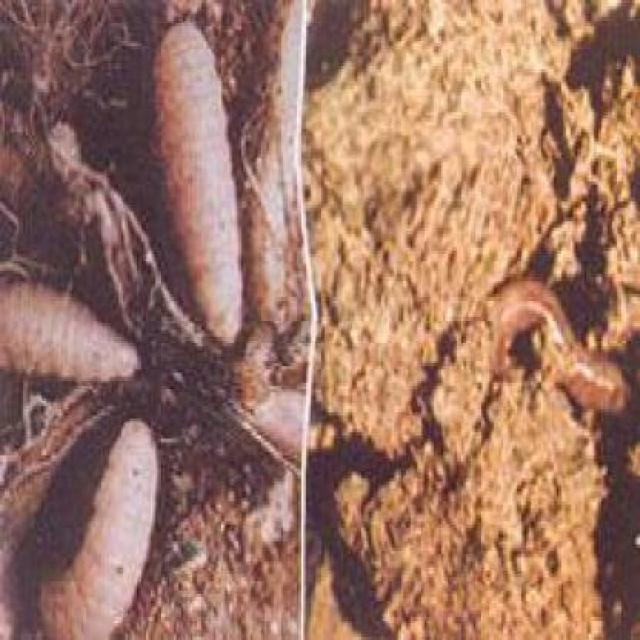whorl-maggot: (152, 25, 248, 348), (37, 412, 159, 638), (3, 277, 143, 383)
